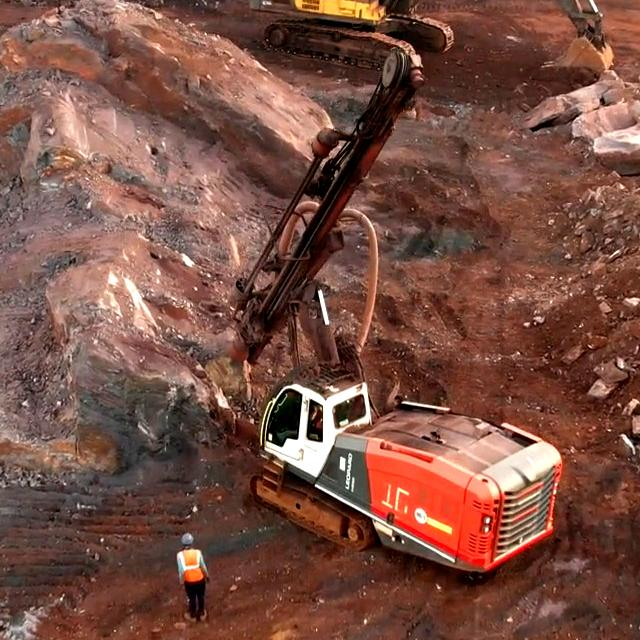Blast rig: (279, 390, 526, 539)
Excavator: (257, 0, 401, 58)
person: (179, 539, 214, 621)
